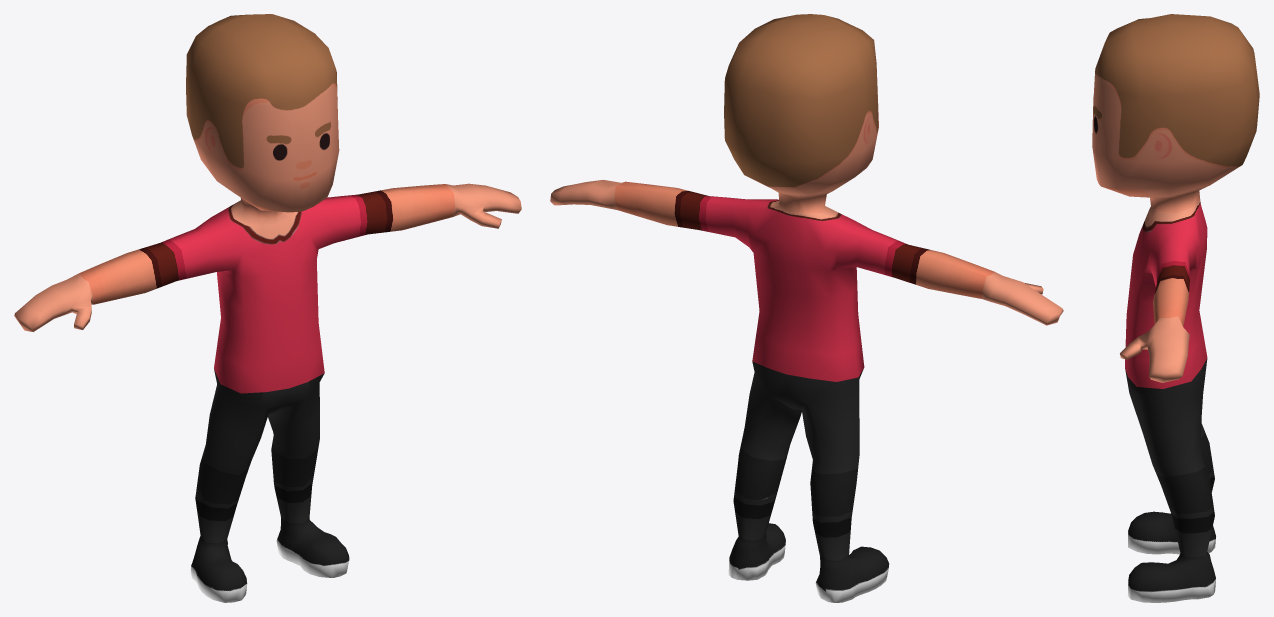
The model's file is Male.fbx.
The picture shows the model from 3 angles, left to right: view 1: azimuth 30°, elevation 25°; view 2: azimuth 150°, elevation 25°; view 3: azimuth 270°, elevation 25°; orthographic projection.
Visible parts, largest first — view 1: characterMedium; view 2: characterMedium; view 3: characterMedium.
Part boxes in pixels (box(x1,y1,x2,y2)): characterMedium: box(14, 14, 521, 602); characterMedium: box(550, 14, 1063, 602); characterMedium: box(1092, 14, 1259, 602).
Bounding box in the file's own units: 362 × 376 × 105.
Materials: 1 (1 with a texture image).
